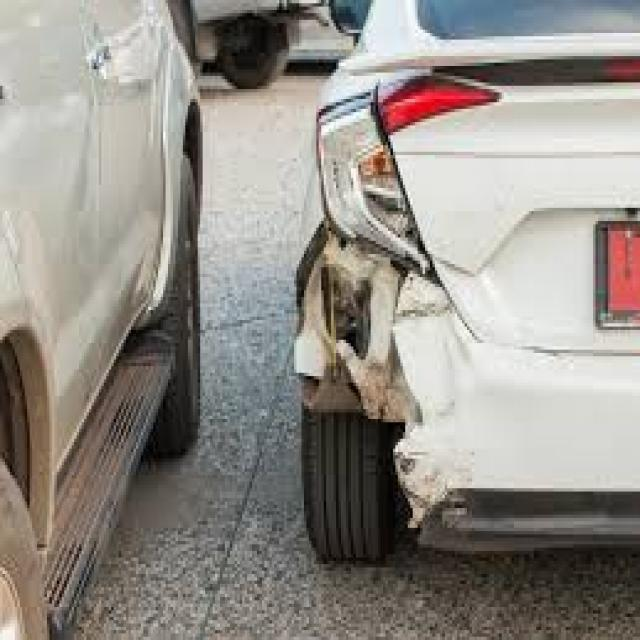damaged-rear-bumper: (299, 231, 640, 559)
